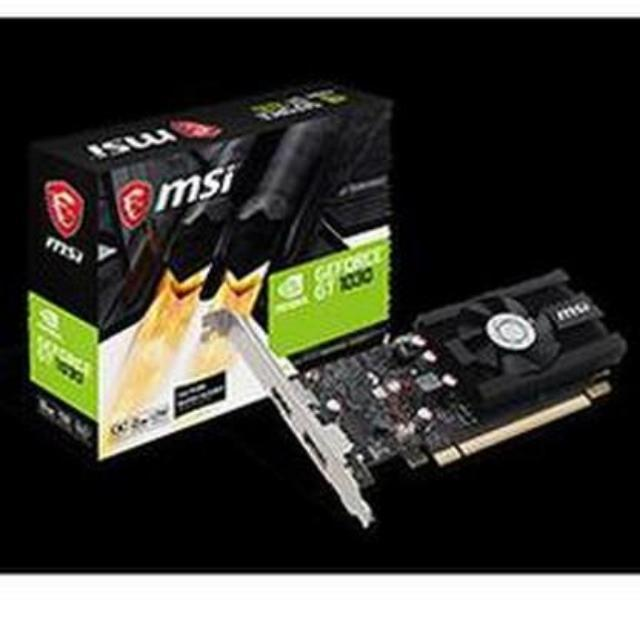GPU: (203, 266, 634, 534)
